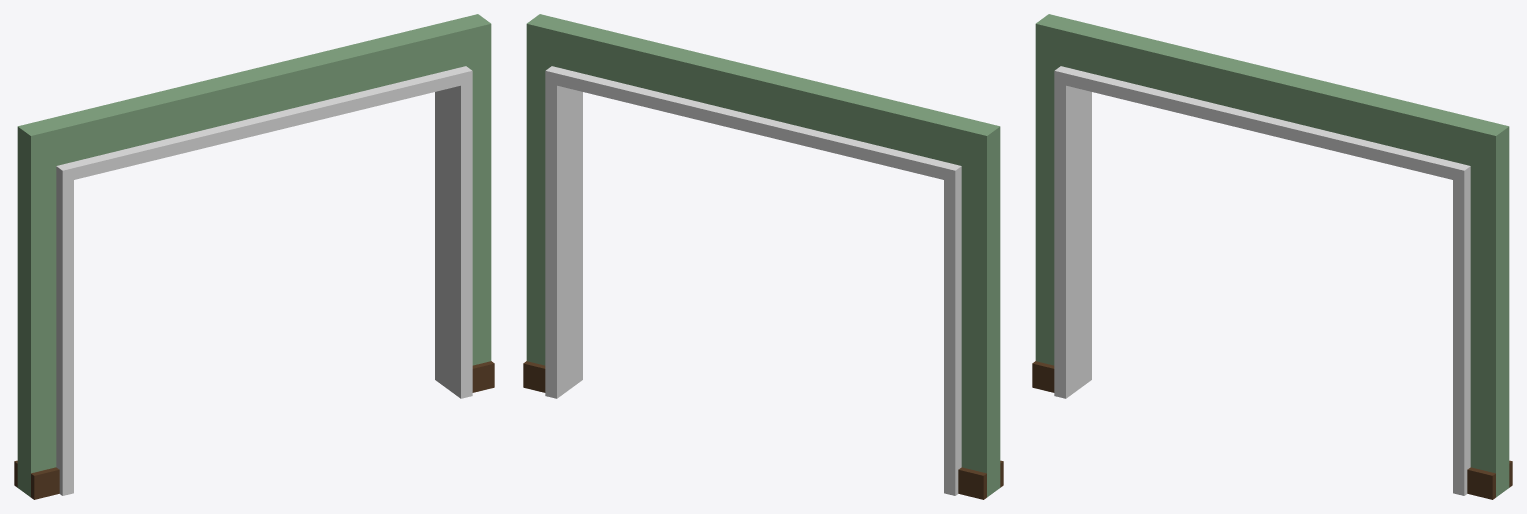
The model's file is h_wall_1_doorFrame2.fbx.
The picture shows the model from 3 angles, left to right: view 1: azimuth 30°, elevation 25°; view 2: azimuth 150°, elevation 25°; view 3: azimuth 330°, elevation 25°; orthographic projection.
Visible parts, largest first — view 1: Cube, DoorFrame; view 2: Cube, DoorFrame; view 3: Cube, DoorFrame.
Boxes of the visible parts, x1,y1,x2,y2 form: Cube: [14, 14, 494, 499]; DoorFrame: [56, 66, 472, 495]; Cube: [523, 14, 1003, 499]; DoorFrame: [545, 66, 961, 495]; Cube: [1032, 14, 1512, 499]; DoorFrame: [1054, 66, 1470, 495].
Bounding box in the file's own units: 400 × 300 × 39.37.
